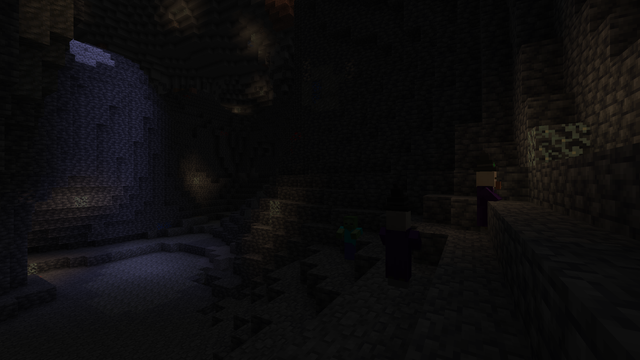sorcieres: (383, 205, 413, 292), (475, 168, 499, 233)
zombies: (341, 216, 358, 264)
